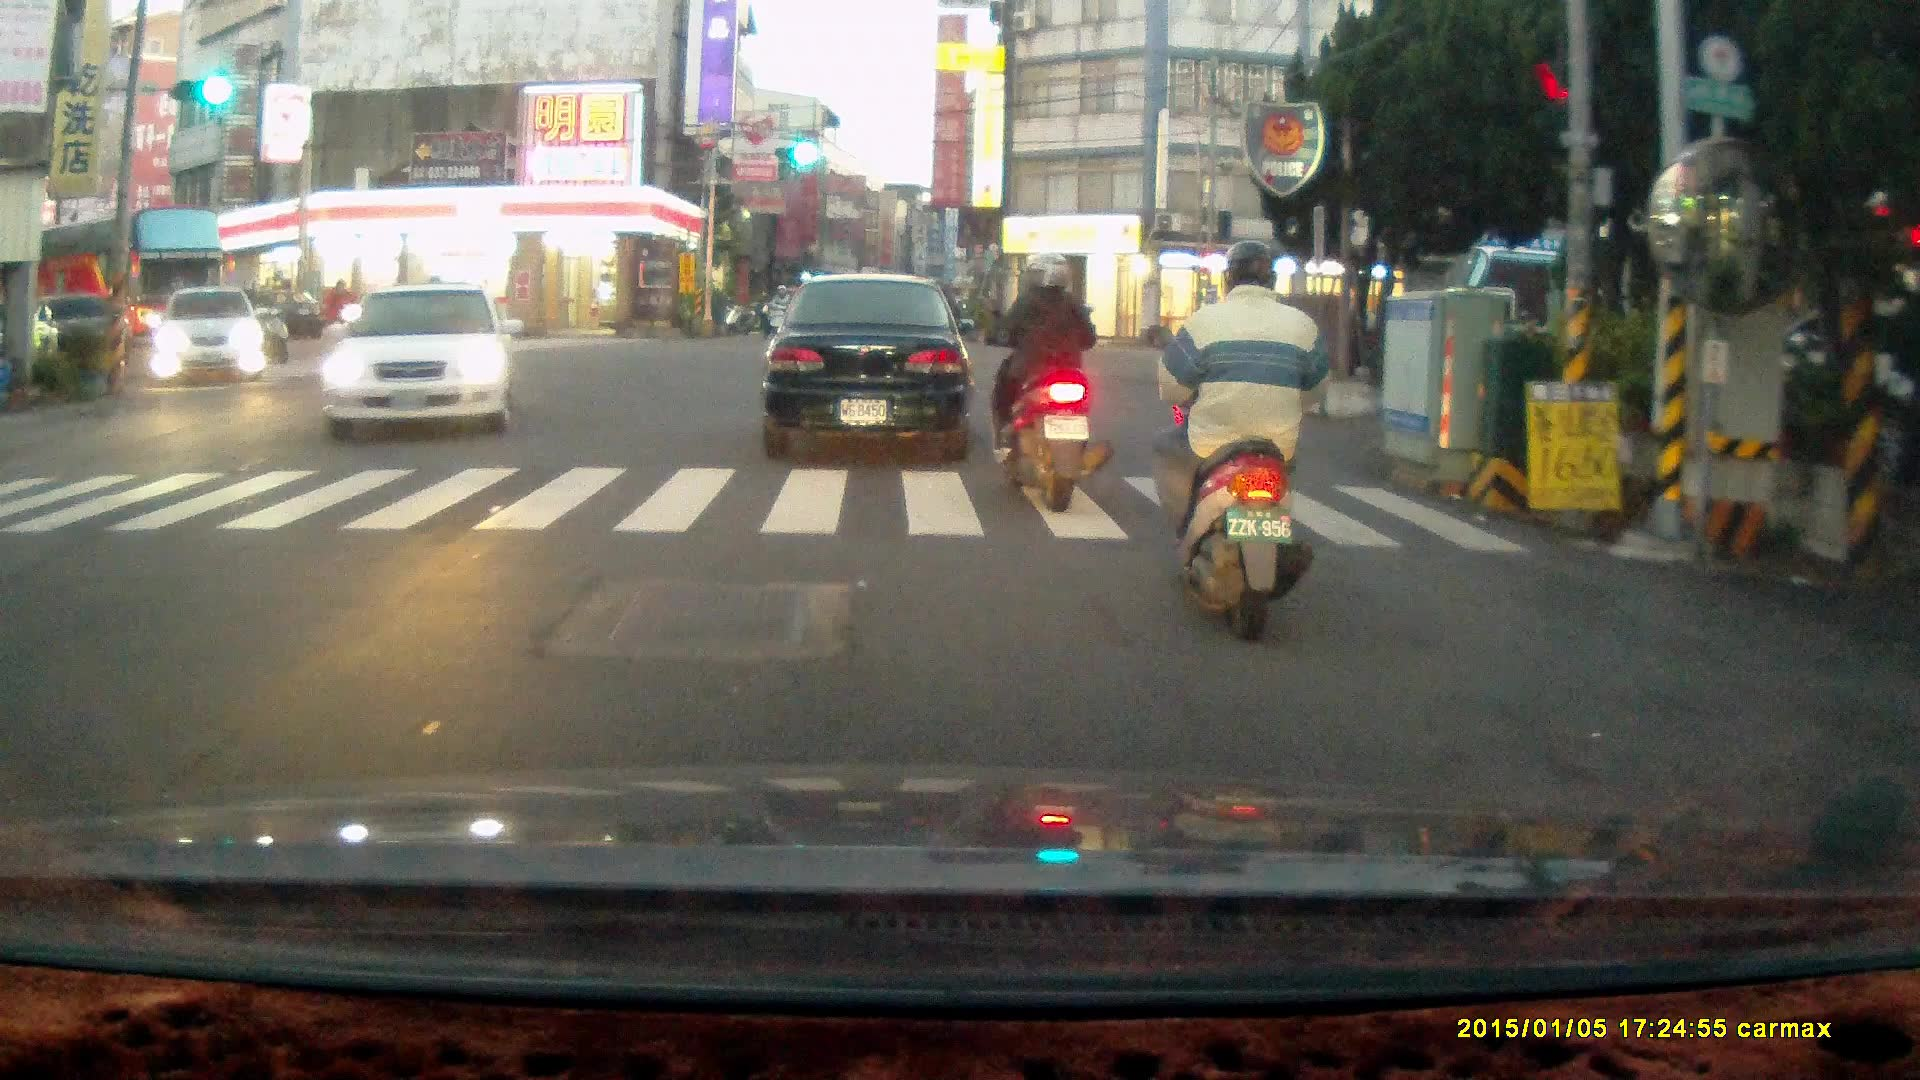rider: (1142, 239, 1326, 644), (976, 250, 1112, 514), (319, 276, 374, 361), (237, 279, 292, 366)
vehicle: (1651, 296, 1920, 500), (762, 273, 977, 465), (320, 283, 514, 442), (27, 206, 233, 354), (158, 287, 274, 396)
